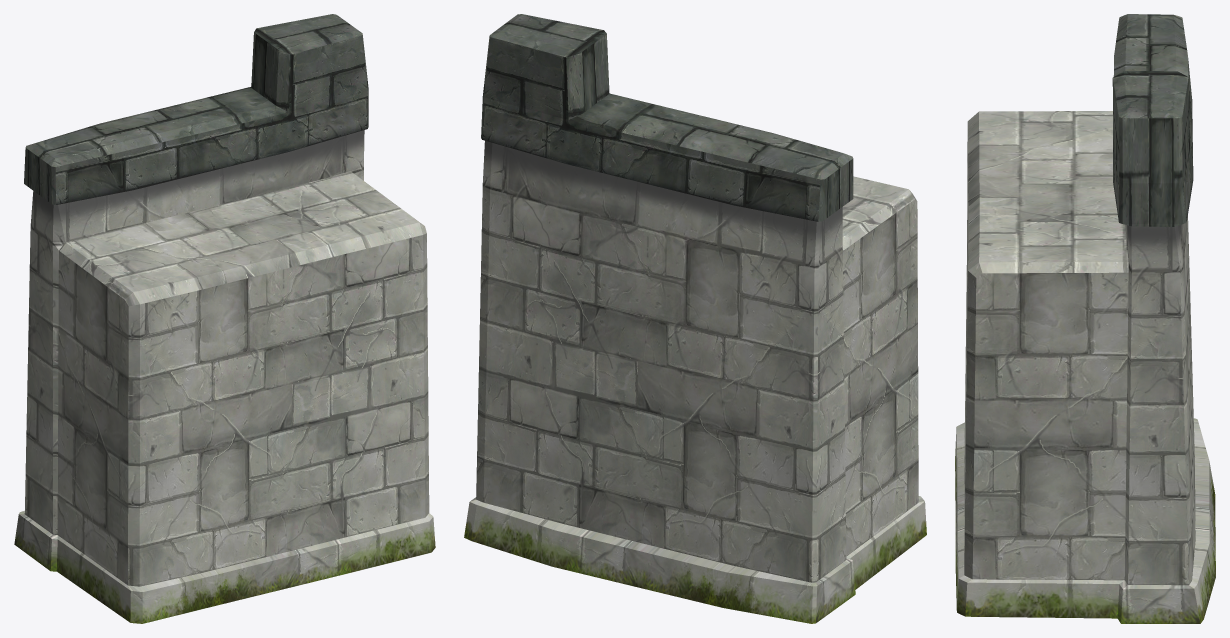
The model's file is Wall_Right_01.FBX.
3 renders of one model, left to right at view 1: azimuth 30°, elevation 25°; view 2: azimuth 150°, elevation 25°; view 3: azimuth 270°, elevation 25°, orthographic. The views are drawn at different scales.
Visible parts, largest first — view 1: Wall_Right_01; view 2: Wall_Right_01; view 3: Wall_Right_01.
Part boxes in pixels (<box>): Wall_Right_01: <box>14,14,435,623</box>; Wall_Right_01: <box>464,14,926,623</box>; Wall_Right_01: <box>955,14,1215,623</box>.
Bounding box in the file's own units: 154 × 210 × 98.95.
